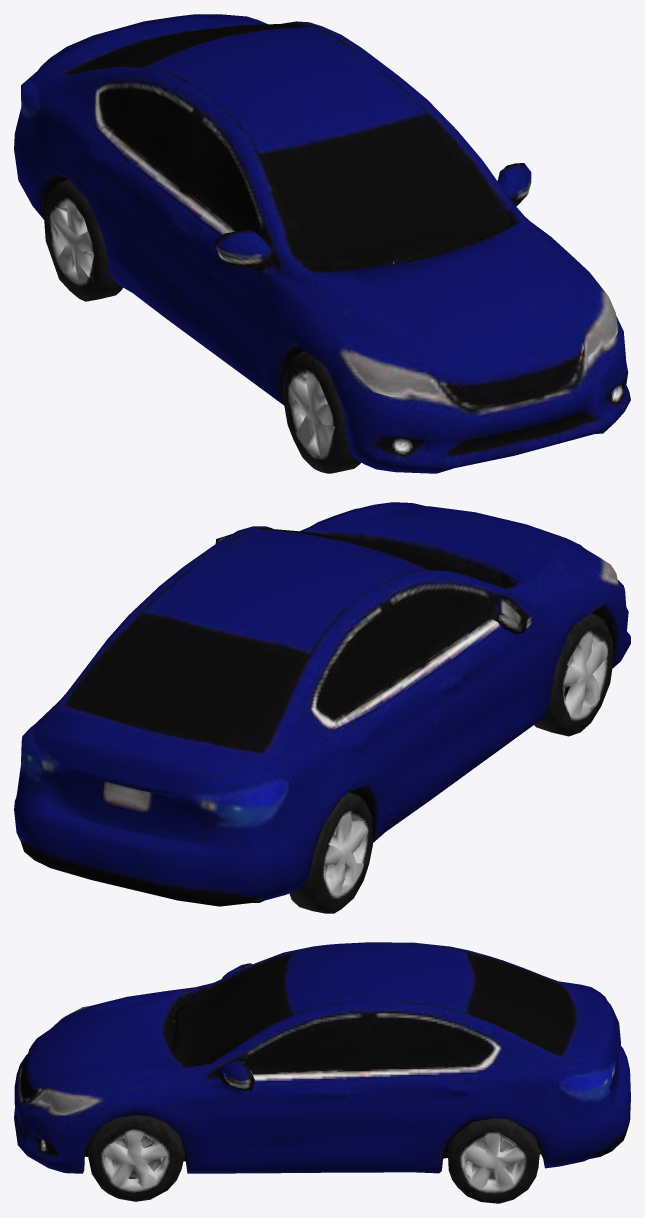
The model's file is sedan_blue.glb.
3 renders of one model, top to bottom at view 1: azimuth 30°, elevation 25°; view 2: azimuth 150°, elevation 25°; view 3: azimuth 270°, elevation 25°, orthographic. The views are drawn at different scales.
Visible parts, largest first — view 1: sedan_blue; view 2: sedan_blue; view 3: sedan_blue.
Part boxes in pixels (left/top/right/bottom): sedan_blue: left=14, top=14, right=630, bottom=473; sedan_blue: left=14, top=502, right=630, bottom=913; sedan_blue: left=14, top=942, right=630, bottom=1203.
Bounding box in the file's own units: 2.1 × 1.62 × 4.82.
Materials: 1 (1 with a texture image).
